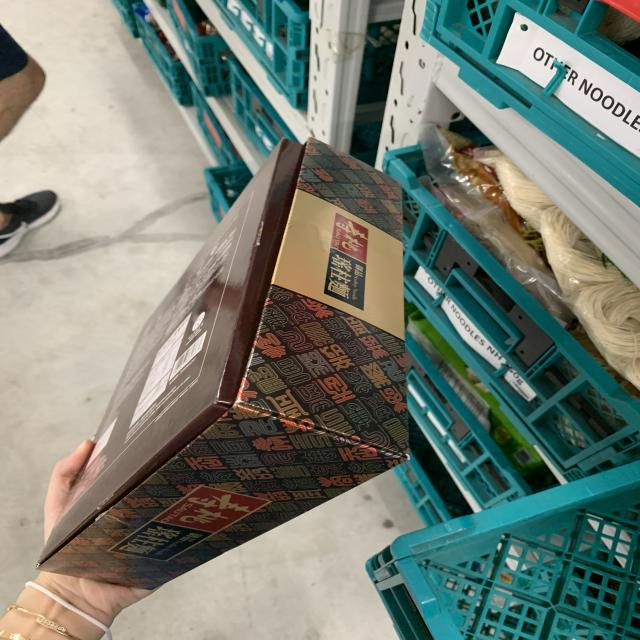object_name: (81, 175, 390, 573)
